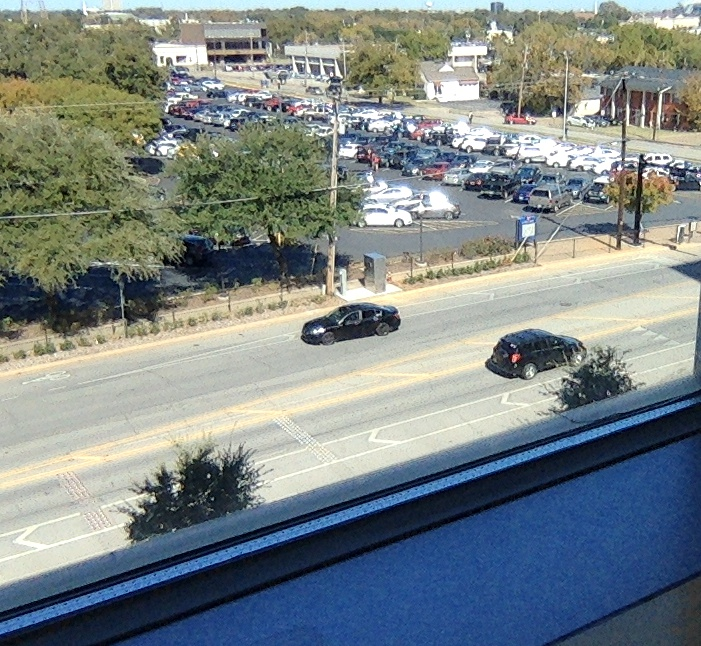car: (300, 300, 401, 346)
